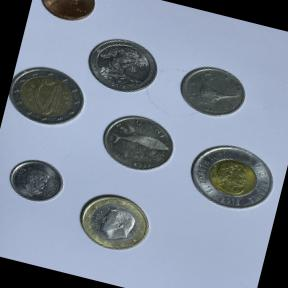coin: (174, 128, 288, 227), (65, 182, 162, 264), (91, 104, 186, 184), (2, 58, 91, 136), (79, 29, 166, 104), (0, 150, 72, 212), (29, 0, 108, 33)
